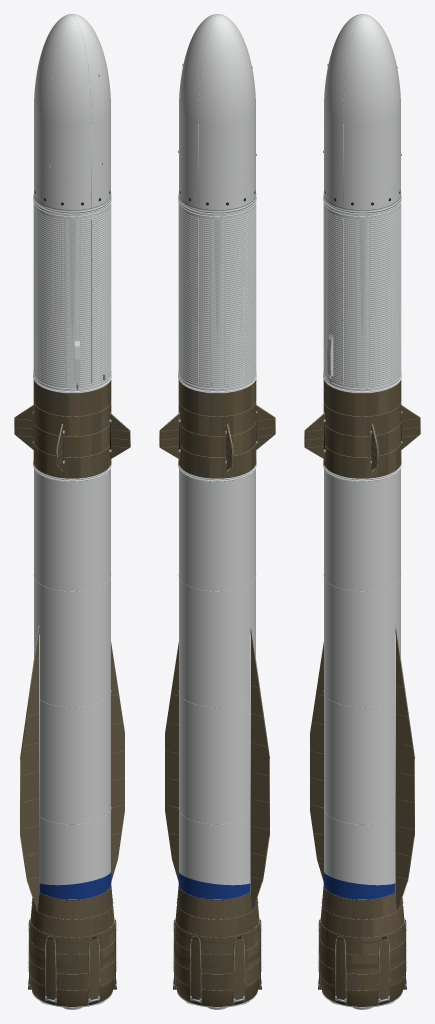
The model's file is new-glenn.glb.
3 views of the same model, side by side, from view 1: azimuth 30°, elevation 25°; view 2: azimuth 150°, elevation 25°; view 3: azimuth 330°, elevation 25° (orthographic).
Parts seen in each view (by area): view 1: booster__NG warm white exterior, upper__NG warm white exterior, fairing-left__NG warm white exterior, upper__NG white interface trim, recovery__NG thermal exterior panel 03, fairing-right__NG warm white exterior, booster__NG thermal exterior panel 02, booster__NG thermal exterior panel 00, booster__NG thermal exterior panel 06, booster__NG thermal exterior panel 05, booster__NG thermal exterior panel 03, booster__NG thermal exterior panel 01 (+10 smaller); view 2: booster__NG warm white exterior, upper__NG warm white exterior, fairing-left__NG warm white exterior, upper__NG white interface trim, recovery__NG thermal exterior panel 03, fairing-right__NG warm white exterior, booster__NG thermal exterior panel 02, booster__NG thermal exterior panel 00, booster__NG thermal exterior panel 06, booster__NG thermal exterior panel 07, booster__NG thermal exterior panel 01, booster__NG thermal exterior panel 03 (+10 smaller); view 3: booster__NG warm white exterior, upper__NG warm white exterior, fairing-right__NG warm white exterior, upper__NG white interface trim, recovery__NG thermal exterior panel 03, booster__NG thermal exterior panel 02, fairing-left__NG warm white exterior, booster__NG thermal exterior panel 00, booster__NG thermal exterior panel 01, booster__NG thermal exterior panel 06, booster__NG thermal exterior panel 03, booster__NG thermal exterior panel 07 (+9 smaller).
Boxes of the visible parts, left/top/right/bottom form: booster__NG warm white exterior: left=34, top=469, right=110, bottom=885; upper__NG warm white exterior: left=34, top=201, right=110, bottom=391; fairing-left__NG warm white exterior: left=34, top=14, right=91, bottom=213; upper__NG white interface trim: left=33, top=196, right=111, bottom=391; recovery__NG thermal exterior panel 03: left=20, top=628, right=124, bottom=910; fairing-right__NG warm white exterior: left=70, top=14, right=110, bottom=211; booster__NG thermal exterior panel 02: left=30, top=380, right=114, bottom=1006; booster__NG thermal exterior panel 00: left=30, top=388, right=112, bottom=1005; booster__NG thermal exterior panel 06: left=30, top=393, right=114, bottom=1001; booster__NG thermal exterior panel 05: left=30, top=392, right=111, bottom=1005; booster__NG thermal exterior panel 03: left=30, top=380, right=114, bottom=1005; booster__NG thermal exterior panel 01: left=31, top=380, right=114, bottom=1000; booster__NG warm white exterior: left=179, top=469, right=255, bottom=885; upper__NG warm white exterior: left=179, top=201, right=255, bottom=391; fairing-left__NG warm white exterior: left=198, top=14, right=255, bottom=213; upper__NG white interface trim: left=178, top=196, right=256, bottom=391; recovery__NG thermal exterior panel 03: left=165, top=628, right=269, bottom=910; fairing-right__NG warm white exterior: left=179, top=14, right=219, bottom=211; booster__NG thermal exterior panel 02: left=175, top=380, right=259, bottom=1006; booster__NG thermal exterior panel 00: left=175, top=389, right=257, bottom=1005; booster__NG thermal exterior panel 06: left=175, top=391, right=259, bottom=1001; booster__NG thermal exterior panel 07: left=177, top=393, right=259, bottom=1001; booster__NG thermal exterior panel 01: left=176, top=389, right=259, bottom=1000; booster__NG thermal exterior panel 03: left=175, top=380, right=259, bottom=1005; booster__NG warm white exterior: left=324, top=469, right=400, bottom=885; upper__NG warm white exterior: left=324, top=201, right=400, bottom=391; fairing-right__NG warm white exterior: left=343, top=14, right=400, bottom=213; upper__NG white interface trim: left=323, top=196, right=401, bottom=391; recovery__NG thermal exterior panel 03: left=310, top=628, right=414, bottom=910; booster__NG thermal exterior panel 02: left=320, top=380, right=404, bottom=1006; fairing-left__NG warm white exterior: left=324, top=14, right=364, bottom=211; booster__NG thermal exterior panel 00: left=325, top=389, right=404, bottom=1000; booster__NG thermal exterior panel 01: left=320, top=381, right=401, bottom=1005; booster__NG thermal exterior panel 06: left=320, top=384, right=400, bottom=1005; booster__NG thermal exterior panel 03: left=322, top=389, right=404, bottom=1001; booster__NG thermal exterior panel 07: left=320, top=388, right=404, bottom=1005.
Bounding box in the file's own units: 11 × 98 × 8.15.
